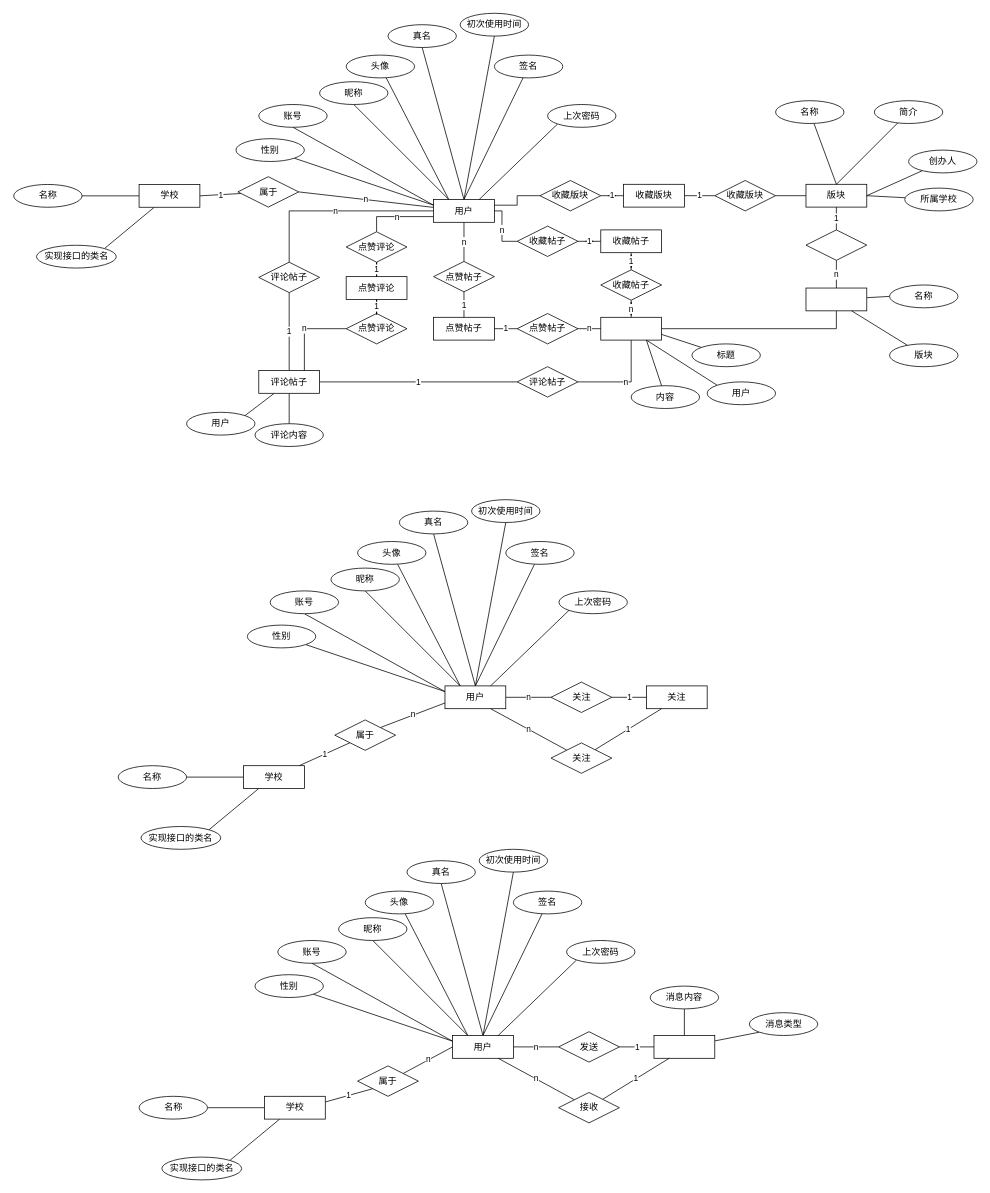
The diagram is 990 pixels wide and 1193 high, and some of its shapes have lost their labels. Here are the shapes that lost their labels. From the top down, the centre of each, then its label:
At point 836,244: "下设分类".
At point 836,299: "版块分类".
At point 631,328: "帖子".
At point 684,1046: "消息".
